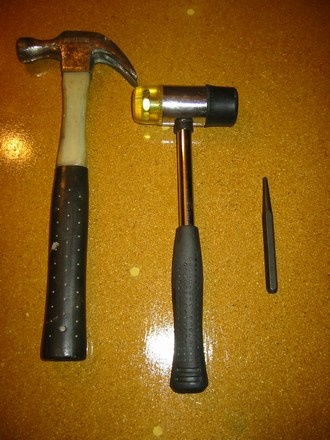hammer: (8, 27, 137, 365), (128, 84, 244, 393)
